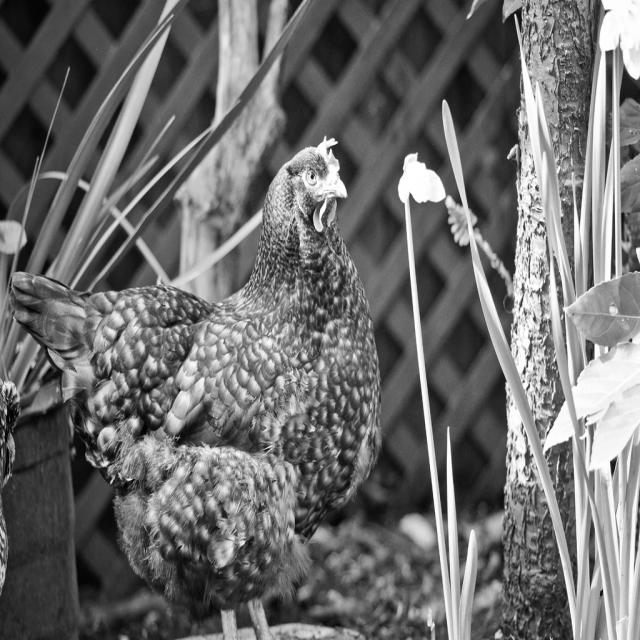Chicken: (21, 131, 385, 640)
